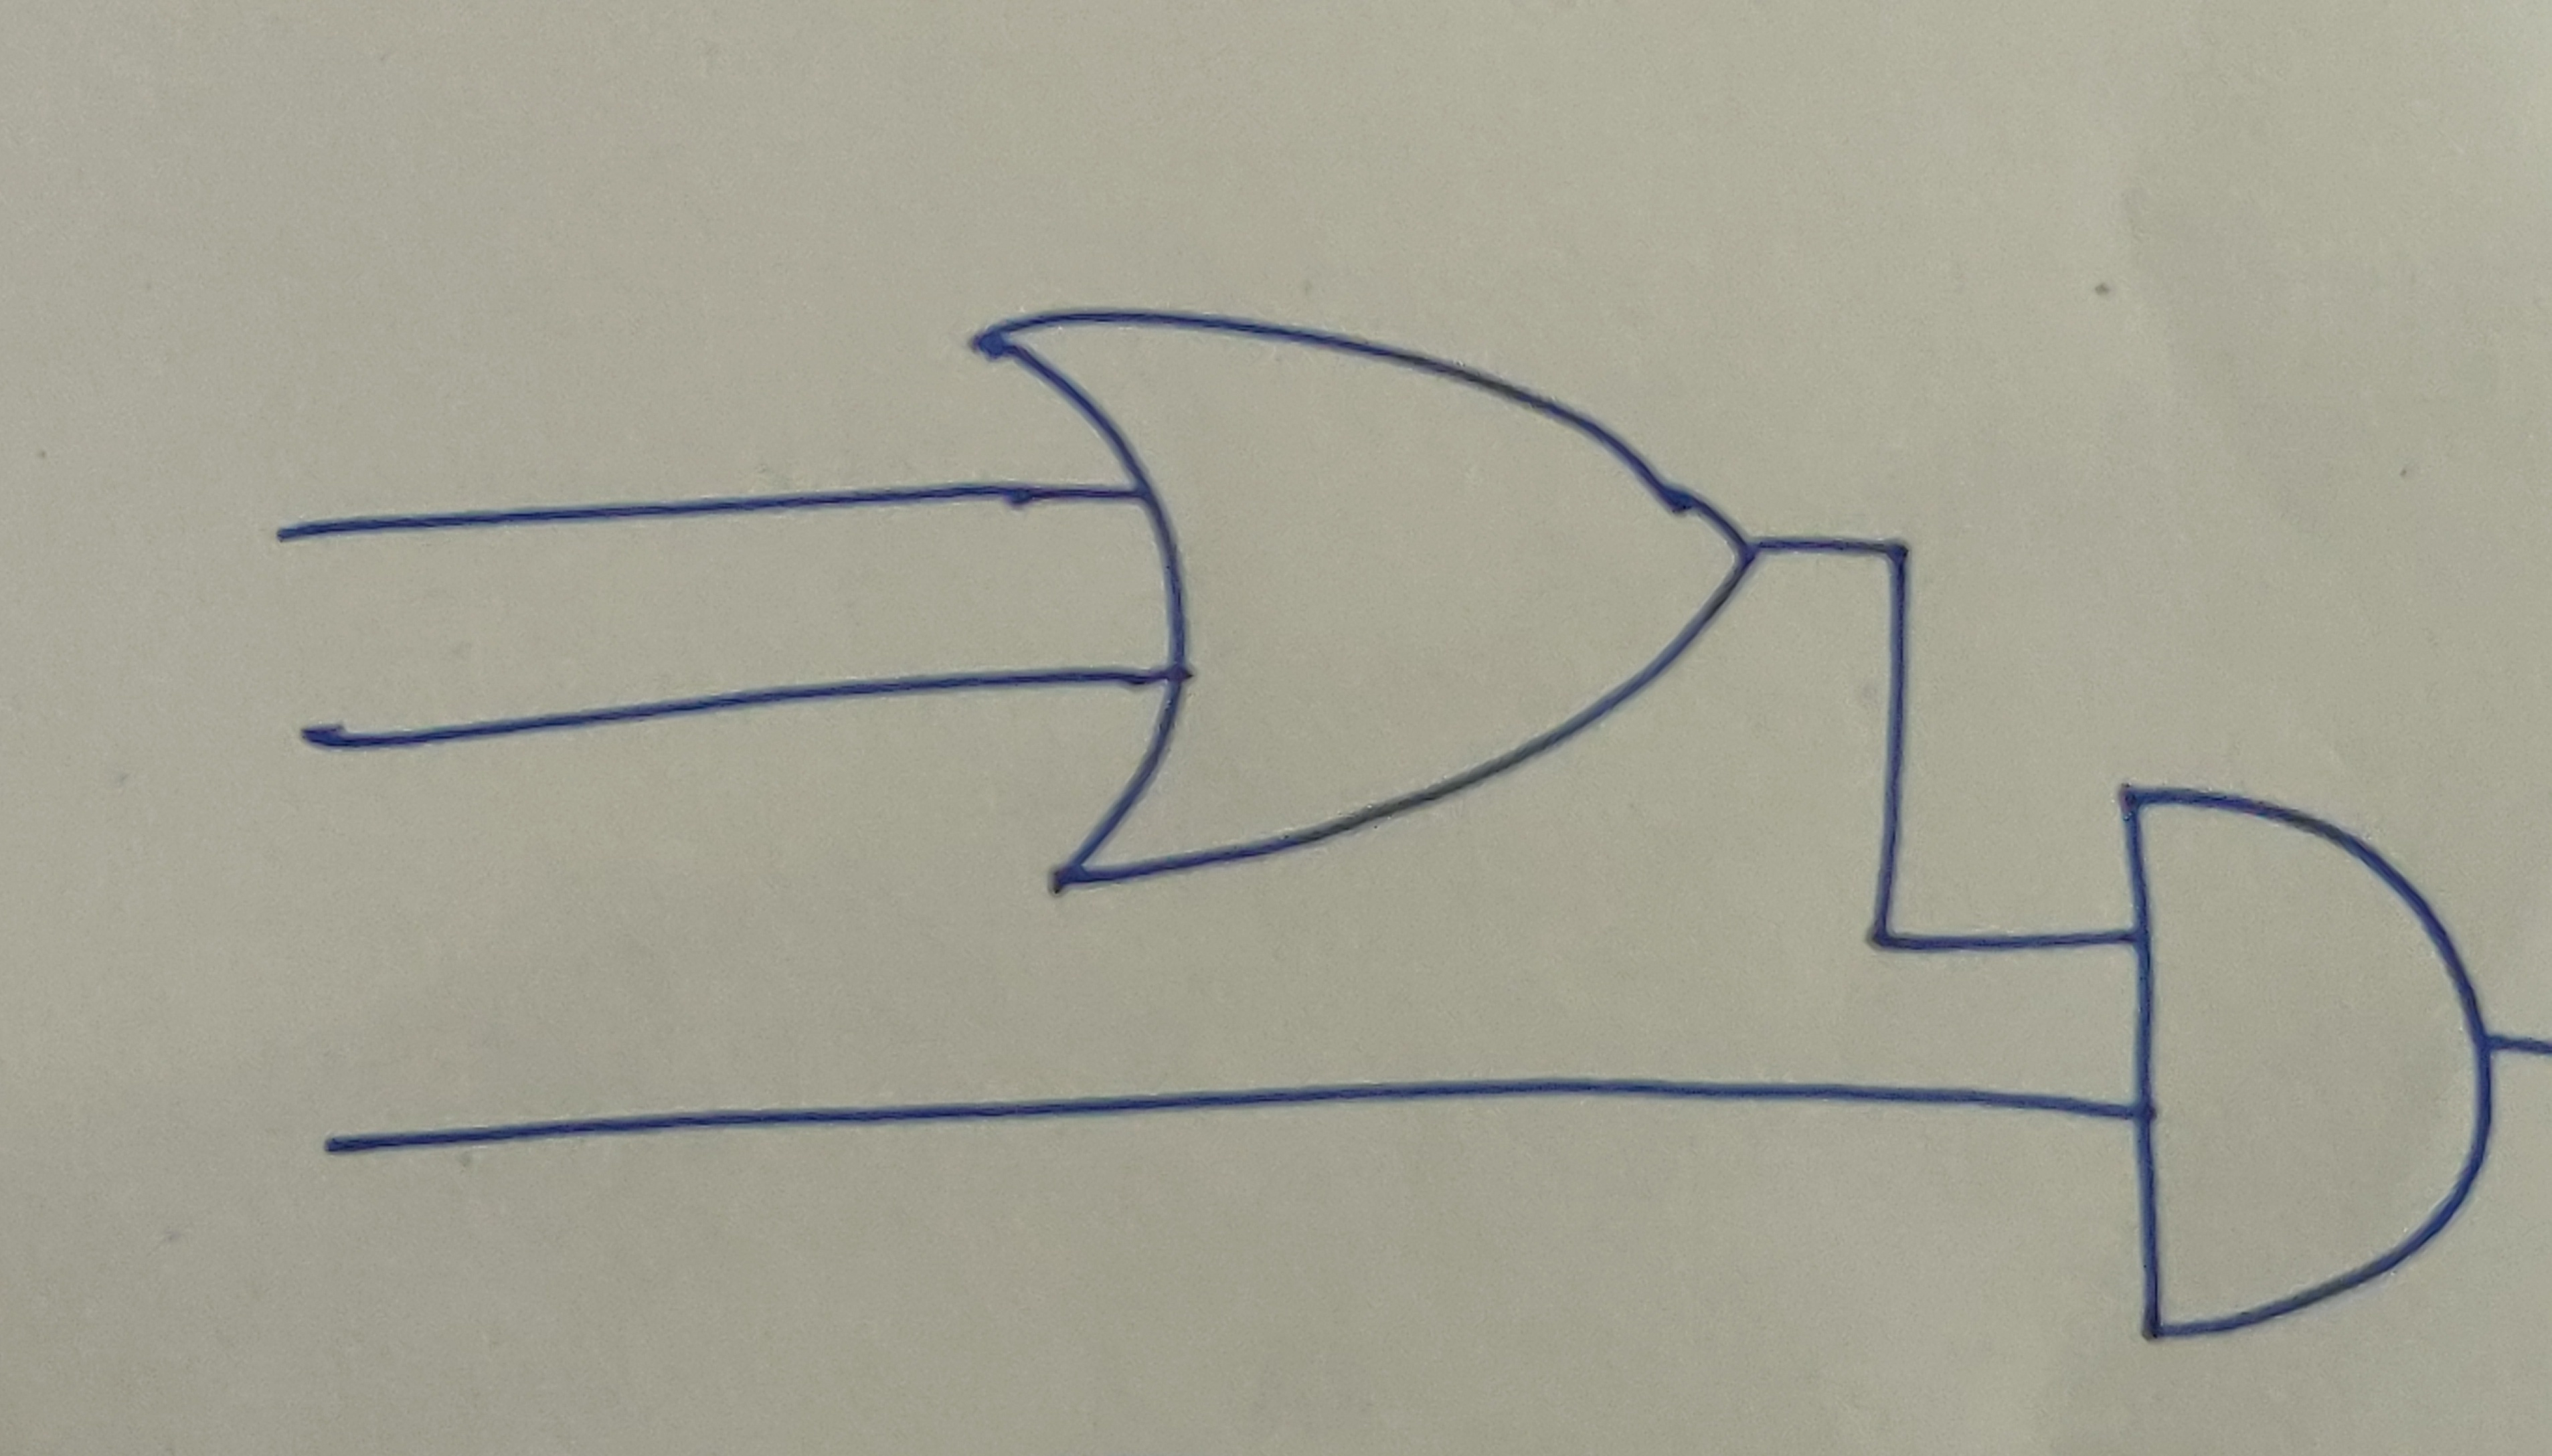and: (2117, 781, 2503, 1349)
or: (966, 310, 1767, 887)
